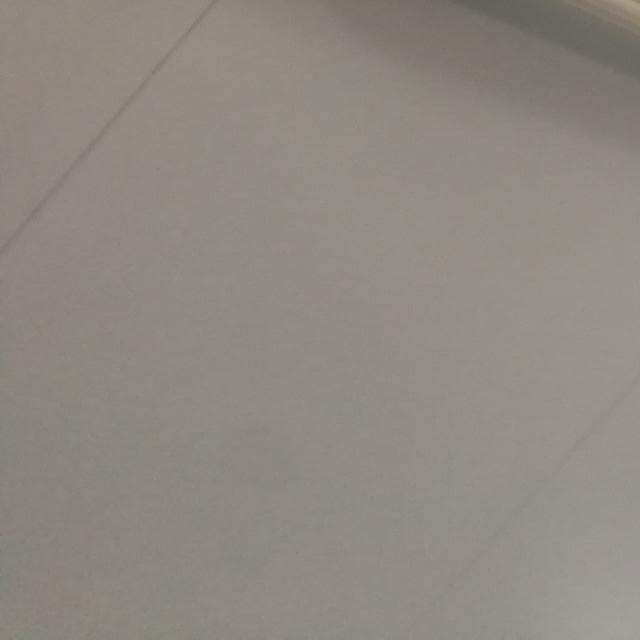fluorescent tube: (62, 0, 640, 277)
